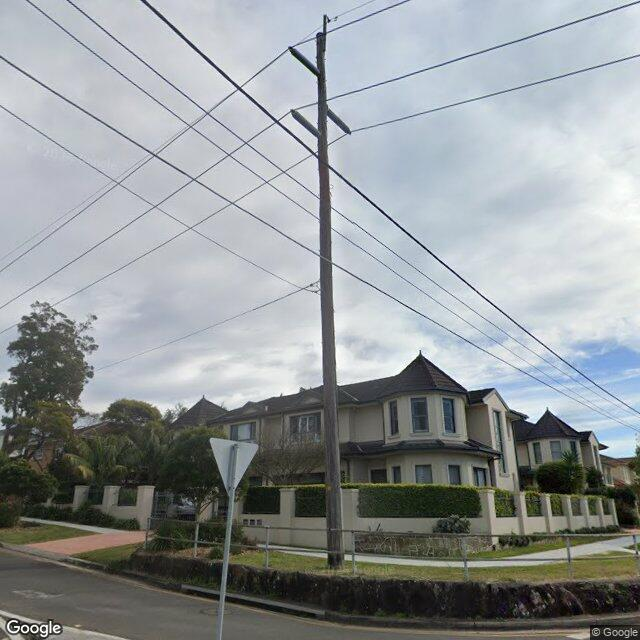HV-transmission: (289, 31, 351, 137)
timber-pole: (316, 32, 344, 568)
